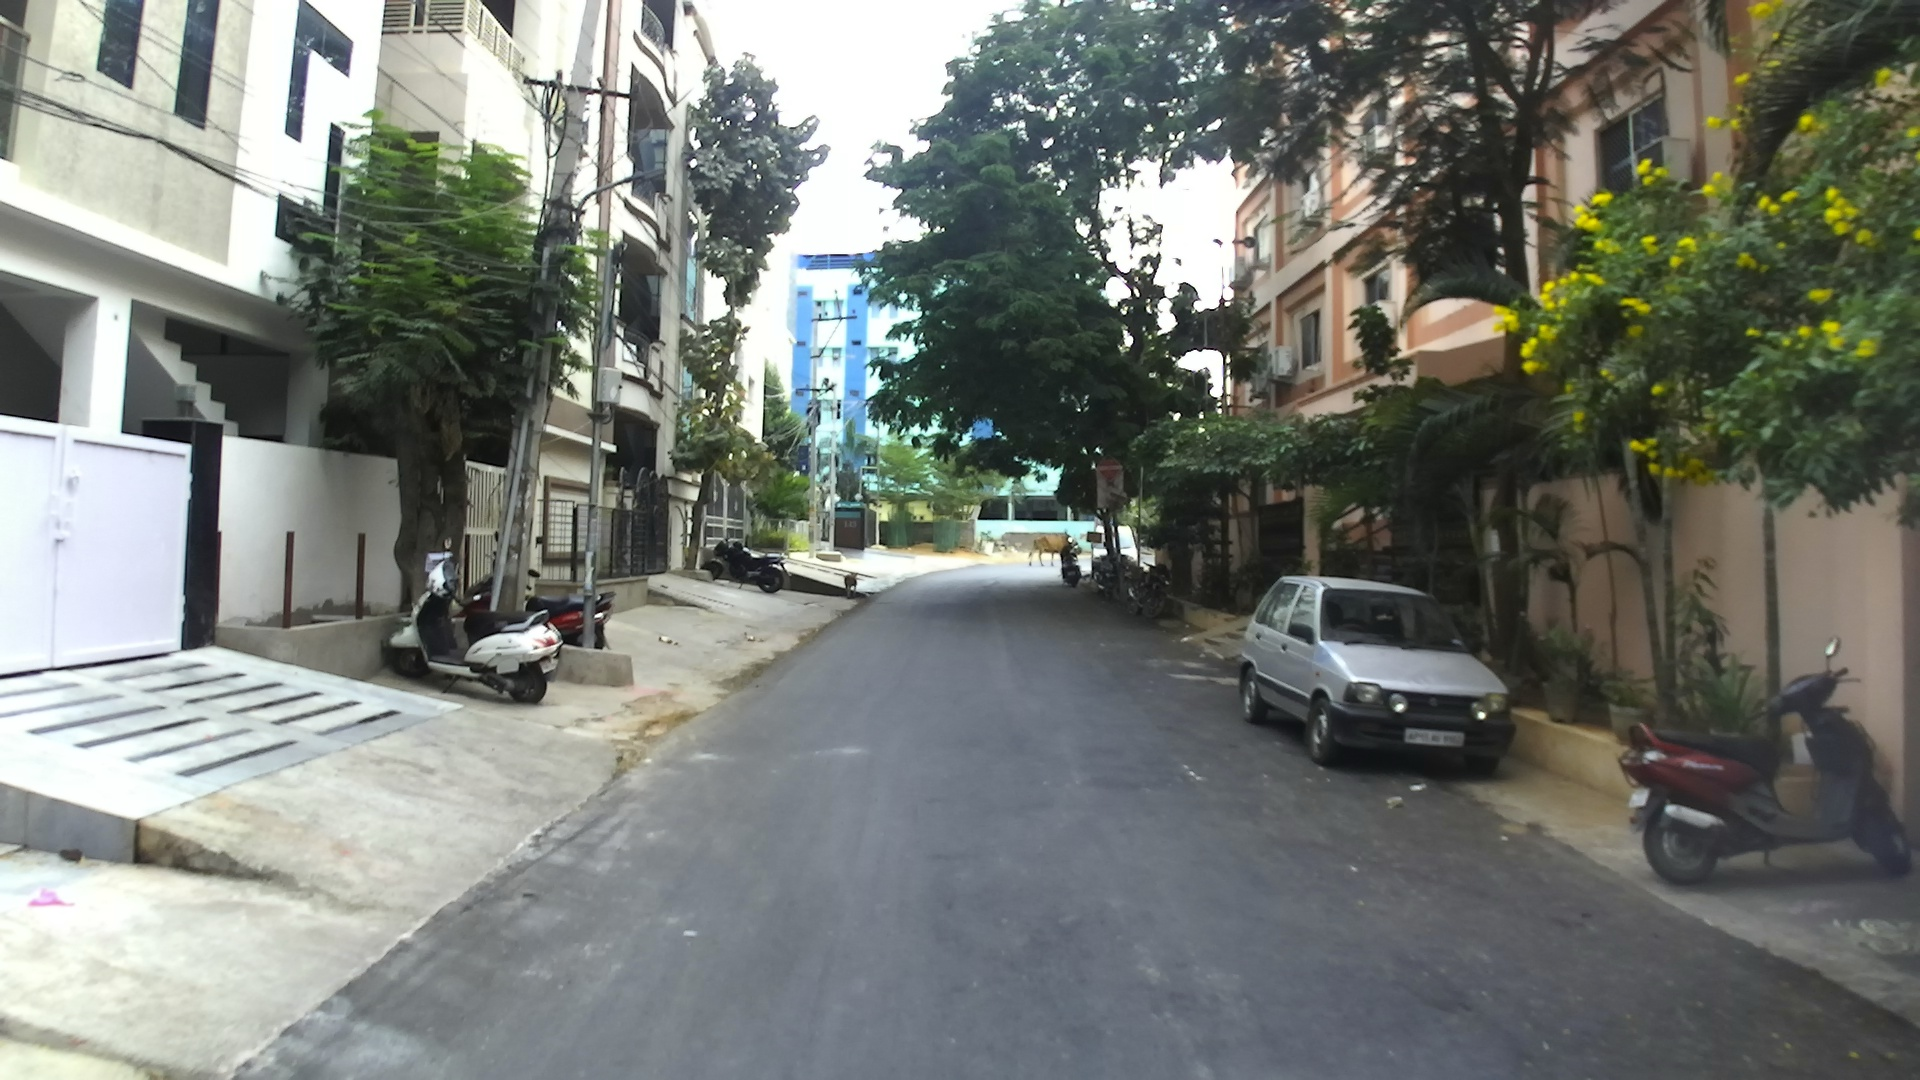vehicle: (1615, 636, 1917, 884), (1234, 571, 1516, 778)
